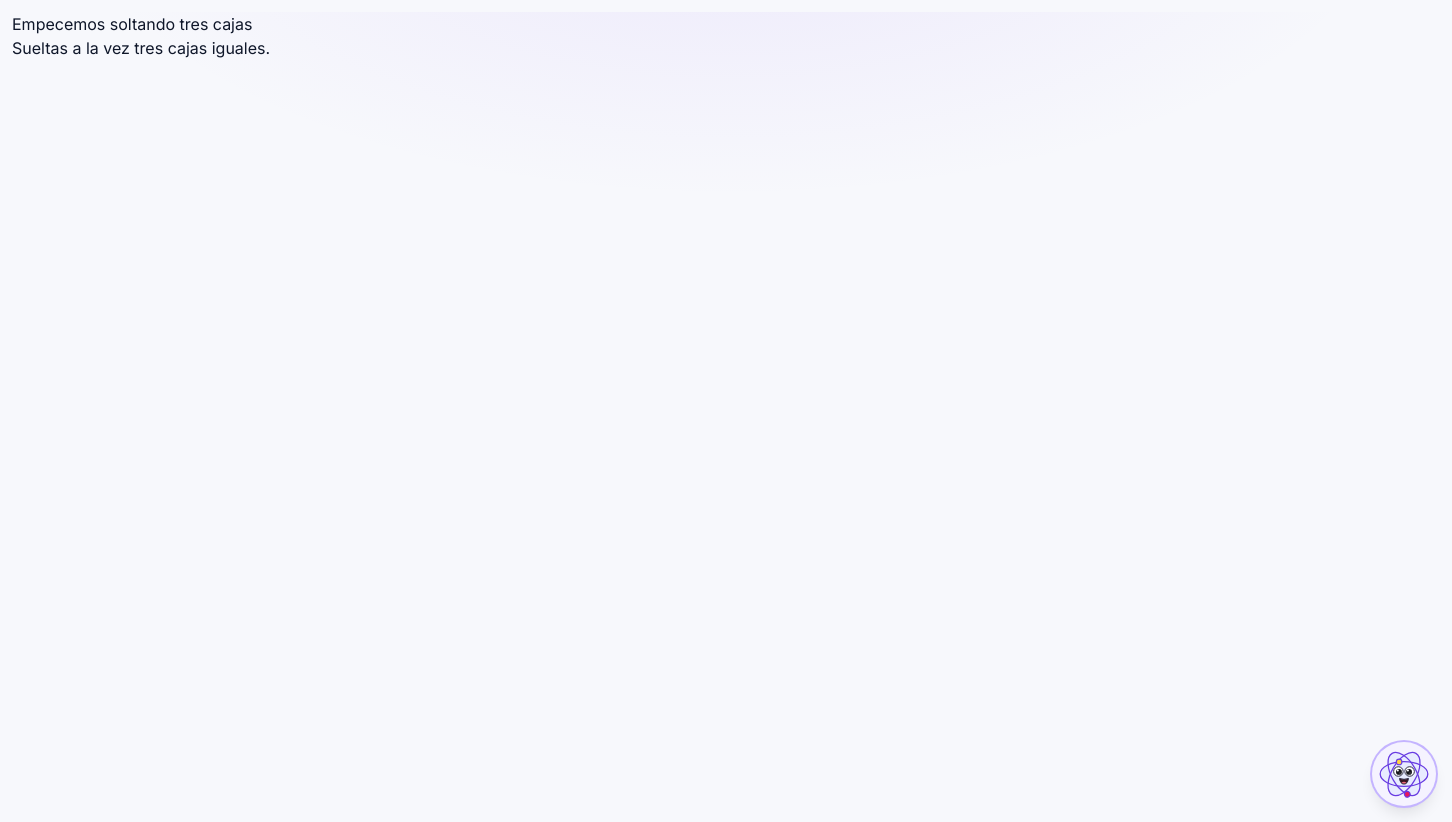
Scenario: LessonChat › answers each question with the language model's reply
This screenshot has width=1452, height=822.
Click the button named "Pregúntale a Atomy": (1404, 774) 1372,742 -> 1436,806
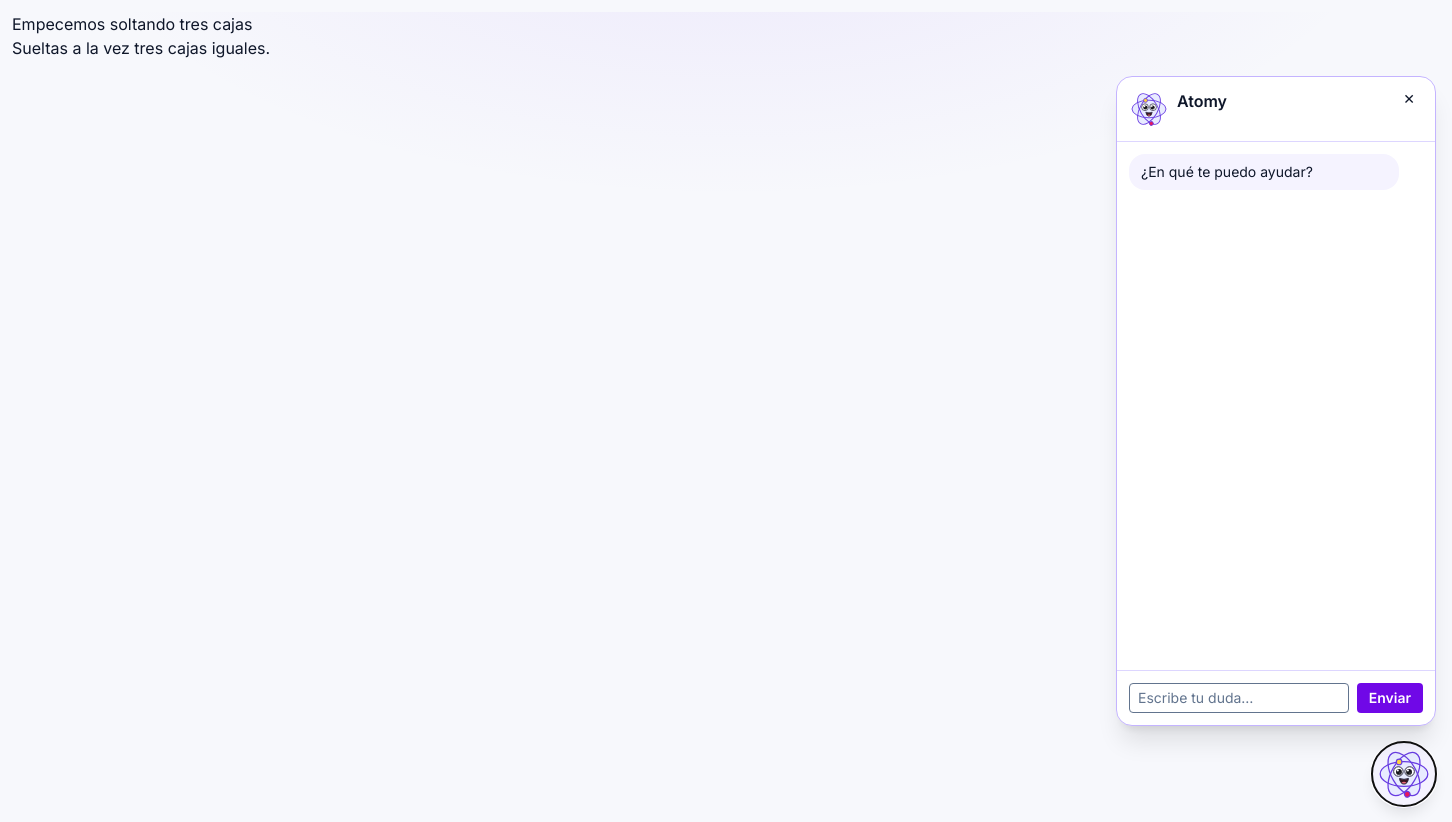
In the field named "Tu pregunta": (1239, 698) 1129,683 -> 1349,713, type "¿Por qué cae la manzana?"
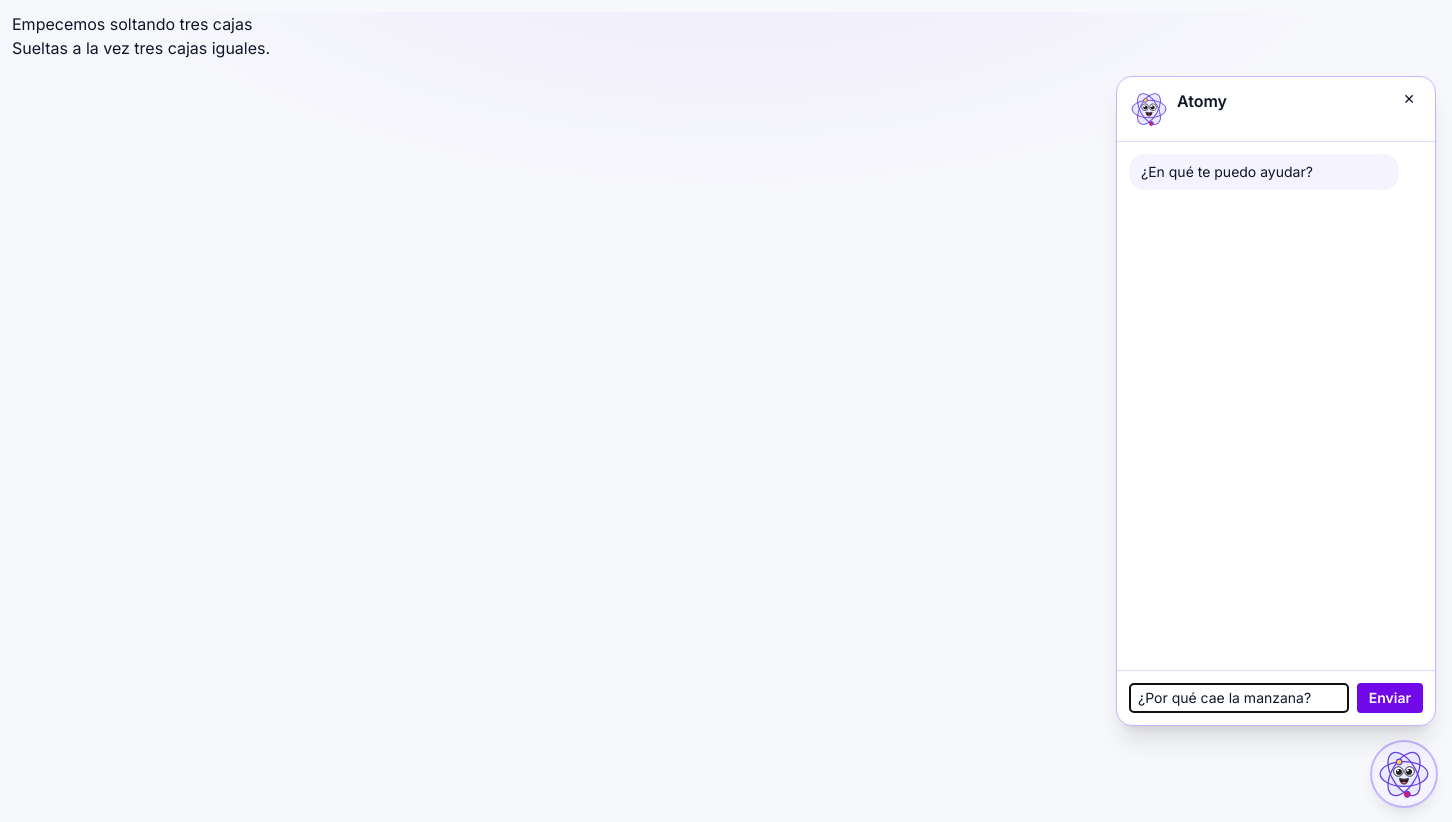
Click the button "Enviar": (1390, 698) 1357,683 -> 1423,713
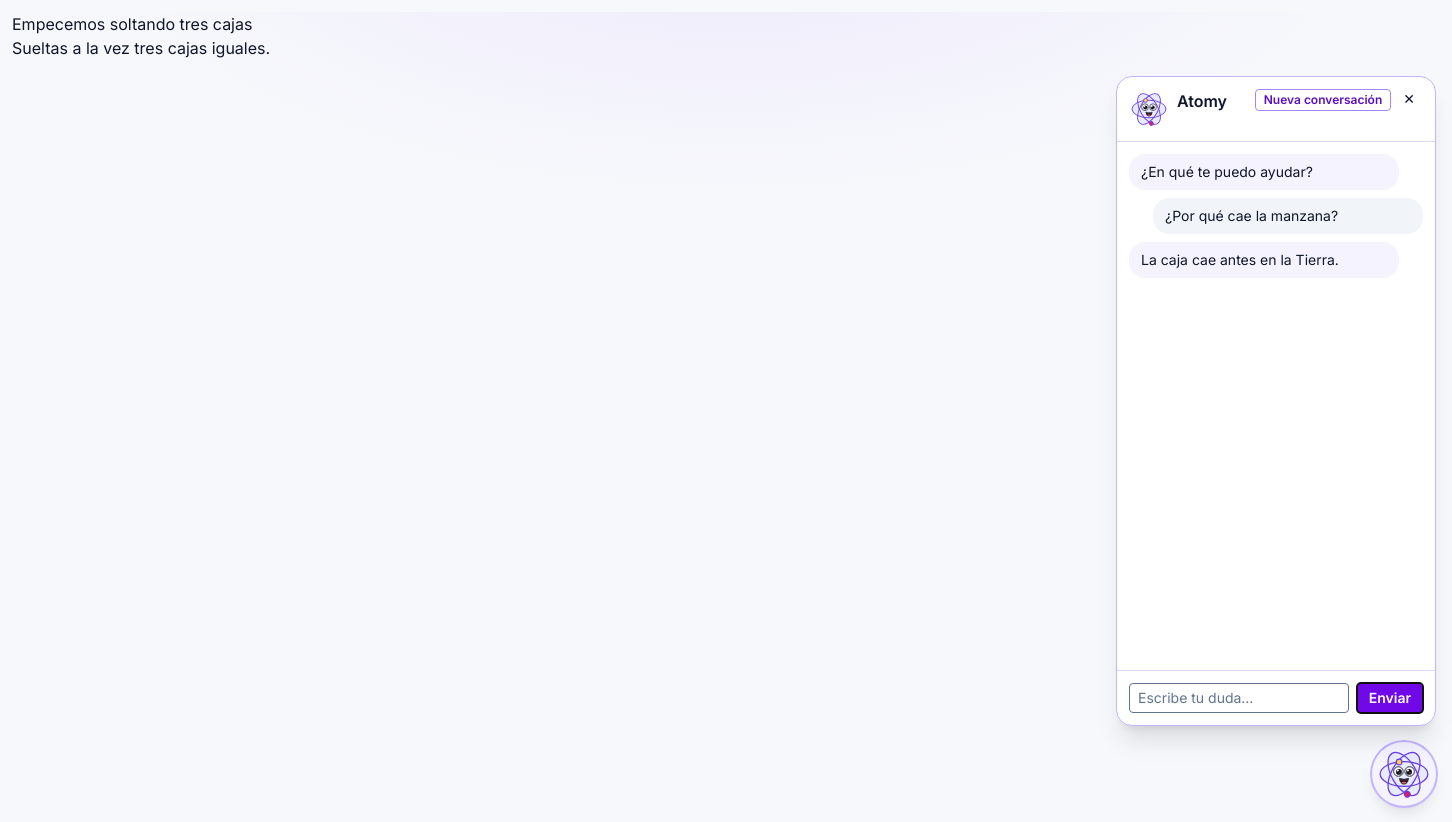
Check: the list items read "¿En qué te puedo ayudar?", "¿Por qué cae la manzana?", "La caja cae antes en la Tierra.", in this order, box 1129,154 -> 1399,190; 1153,198 -> 1423,234; 1129,242 -> 1399,278
Check: the field named "Tu pregunta" is empty, box 1129,683 -> 1349,713
